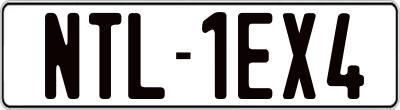1: (200, 11, 226, 102)
4: (326, 11, 368, 103)
E: (235, 13, 271, 101)
L: (128, 11, 170, 98)
N: (45, 10, 79, 102)
T: (88, 11, 126, 97)
X: (281, 12, 317, 100)
